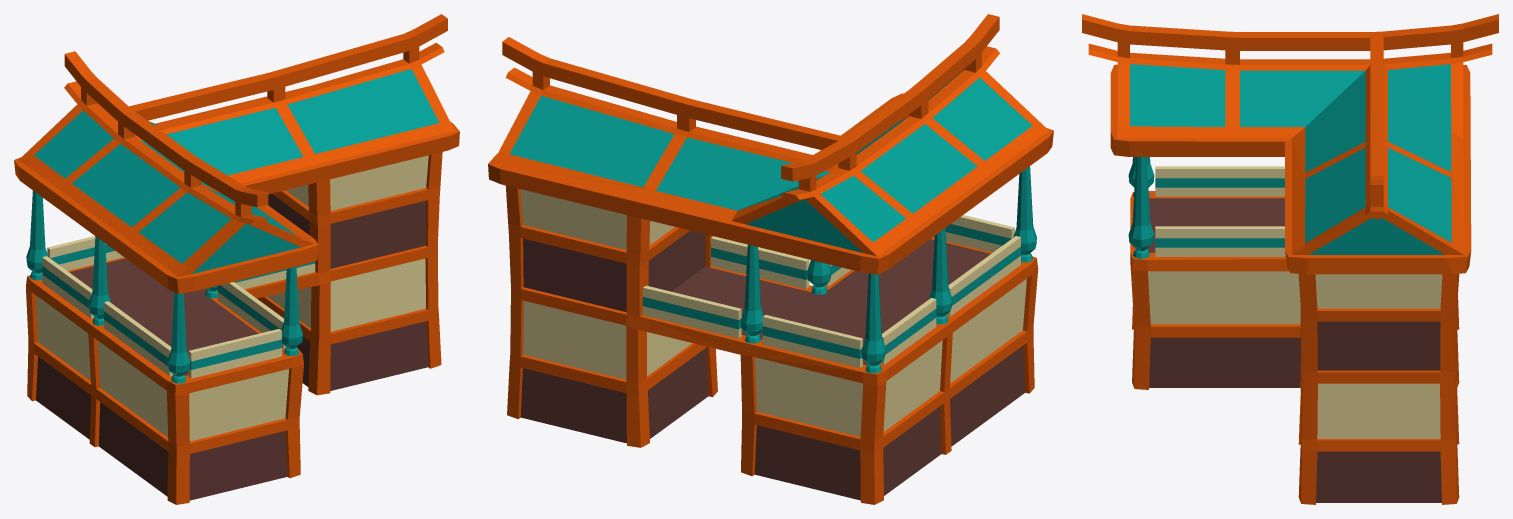
The model's file is GEO_hut_large_1.fbx.
3 renders of one model, left to right at view 1: azimuth 30°, elevation 25°; view 2: azimuth 150°, elevation 25°; view 3: azimuth 270°, elevation 25°, orthographic. The views are drawn at different scales.
Visible parts, largest first — view 1: GEO_hut_large, polySurface1, polySurface2, polySurface5, polySurface7, polySurface3, GEO_pillar_3, GEO_pillar_6, GEO_pillar_1, GEO_pillar_2, polySurface4; view 2: GEO_hut_large, polySurface3, polySurface6, polySurface4, polySurface2, polySurface1, polySurface7, GEO_pillar_1, GEO_pillar_4, GEO_pillar_2, GEO_pillar_3, GEO_pillar_5; view 3: GEO_hut_large, polySurface5, polySurface2, GEO_pillar_6.
Boxes of the visible parts, left/top/right/bottom form: GEO_hut_large: left=14, top=14, right=459, bottom=504; polySurface1: left=188, top=329, right=281, bottom=378; polySurface2: left=103, top=301, right=173, bottom=376; polySurface5: left=217, top=282, right=285, bottom=348; polySurface7: left=42, top=256, right=94, bottom=318; polySurface3: left=47, top=236, right=123, bottom=270; GEO_pillar_3: left=167, top=292, right=190, bottom=383; GEO_pillar_6: left=281, top=266, right=302, bottom=355; GEO_pillar_1: left=26, top=190, right=48, bottom=280; GEO_pillar_2: left=89, top=236, right=110, bottom=325; polySurface4: left=234, top=261, right=315, bottom=289; GEO_hut_large: left=488, top=14, right=1053, bottom=504; polySurface3: left=762, top=315, right=862, bottom=367; polySurface6: left=642, top=285, right=741, bottom=338; polySurface4: left=711, top=236, right=809, bottom=288; polySurface2: left=946, top=236, right=1020, bottom=316; polySurface1: left=932, top=215, right=1014, bottom=252; polySurface7: left=879, top=298, right=936, bottom=364; GEO_pillar_1: left=861, top=273, right=885, bottom=373; GEO_pillar_4: left=740, top=244, right=763, bottom=343; GEO_pillar_2: left=929, top=228, right=952, bottom=324; GEO_pillar_3: left=1013, top=166, right=1036, bottom=262; GEO_pillar_5: left=807, top=260, right=831, bottom=294; GEO_hut_large: left=1082, top=14, right=1498, bottom=504; polySurface5: left=1155, top=226, right=1285, bottom=256; polySurface2: left=1155, top=166, right=1284, bottom=196; GEO_pillar_6: left=1128, top=157, right=1154, bottom=258.
Bounding box in the file's own units: 1024 × 784 × 873.
